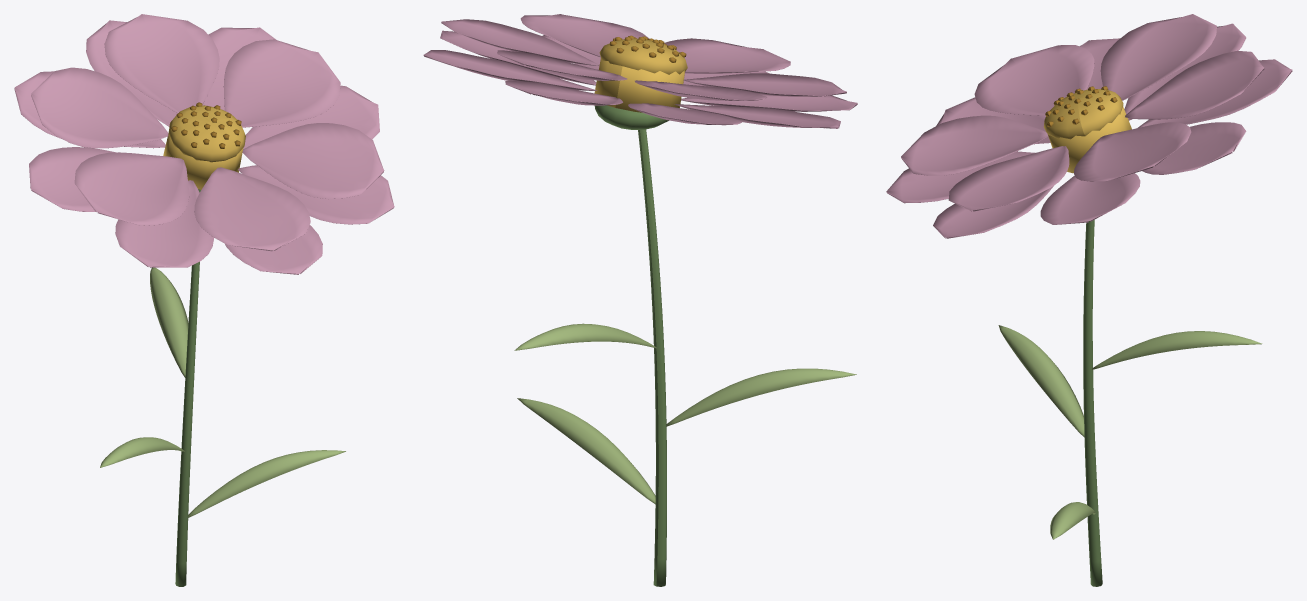
Rendered from cosmos-rare-v2.glb.
3 views of the same model, side by side, from view 1: azimuth 30°, elevation 25°; view 2: azimuth 150°, elevation 25°; view 3: azimuth 270°, elevation 25° (orthographic). The views are drawn at different scales.
Visible parts, largest first — view 1: cosmos-rare-v2-petal, cosmos-rare-v2-leaf, cosmos-rare-v2-center, cosmos-rare-v2-stem, cosmos-rare-v2-pollen; view 2: cosmos-rare-v2-petal, cosmos-rare-v2-leaf, cosmos-rare-v2-stem, cosmos-rare-v2-center, cosmos-rare-v2-pollen; view 3: cosmos-rare-v2-petal, cosmos-rare-v2-leaf, cosmos-rare-v2-stem, cosmos-rare-v2-center, cosmos-rare-v2-pollen.
Part boxes in pixels (x1,y1,x2,y2): cosmos-rare-v2-petal: (14, 14, 394, 274); cosmos-rare-v2-leaf: (100, 267, 345, 517); cosmos-rare-v2-center: (163, 105, 245, 189); cosmos-rare-v2-stem: (175, 189, 200, 586); cosmos-rare-v2-pollen: (171, 102, 241, 148); cosmos-rare-v2-petal: (423, 14, 857, 128); cosmos-rare-v2-leaf: (514, 323, 856, 504); cosmos-rare-v2-stem: (594, 105, 668, 586); cosmos-rare-v2-center: (594, 38, 687, 112); cosmos-rare-v2-pollen: (609, 35, 686, 62); cosmos-rare-v2-petal: (886, 14, 1292, 238); cosmos-rare-v2-leaf: (998, 325, 1262, 539); cosmos-rare-v2-stem: (1083, 220, 1102, 586); cosmos-rare-v2-center: (1043, 89, 1131, 173); cosmos-rare-v2-pollen: (1045, 86, 1117, 126).
Bounding box in the file's own units: 1.22 × 1.69 × 1.16.
